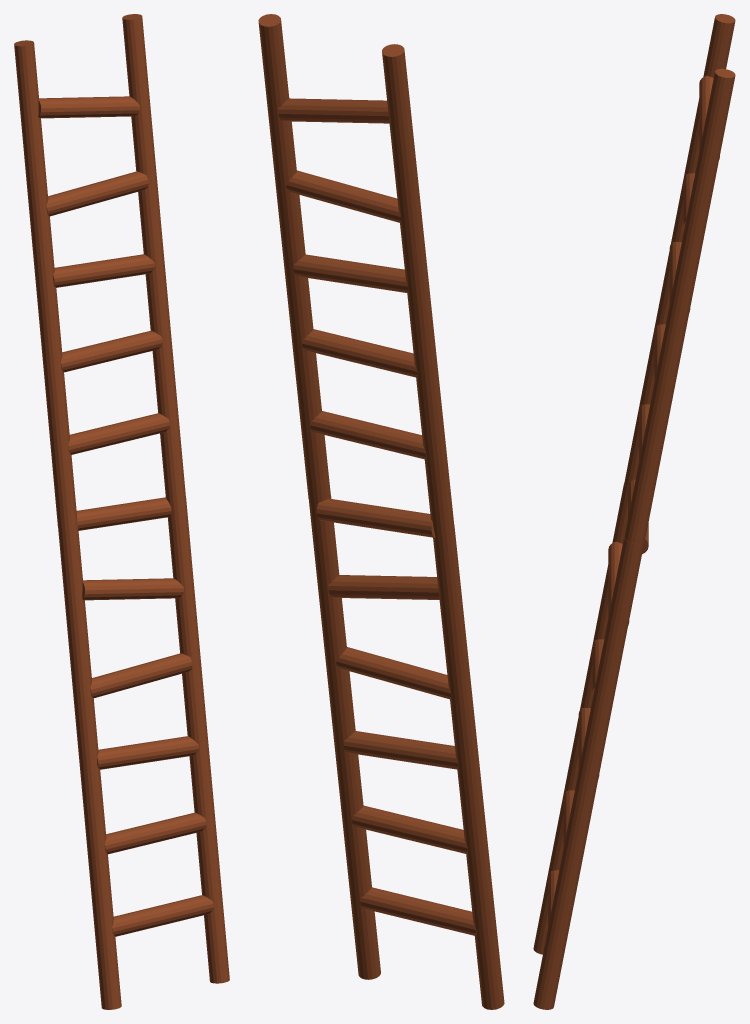
File: wooden_ladder.fbx
3 views of the same model, side by side, from view 1: azimuth 30°, elevation 25°; view 2: azimuth 150°, elevation 25°; view 3: azimuth 270°, elevation 25° (orthographic). The views are drawn at different scales.
Visible parts, largest first — view 1: Cylinder.006; view 2: Cylinder.006; view 3: Cylinder.006.
Boxes of the visible parts, left/top/right/bottom form: Cylinder.006: left=14, top=14, right=229, bottom=1009; Cylinder.006: left=258, top=14, right=504, bottom=1009; Cylinder.006: left=533, top=14, right=735, bottom=1009.
Bounding box in the file's own units: 115 × 791 × 155.
